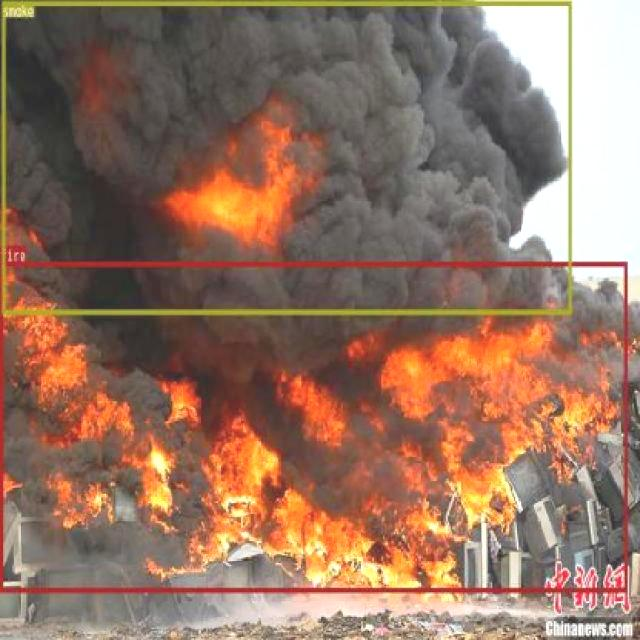fire: (0, 262, 628, 592)
smoke: (2, 0, 570, 314)
